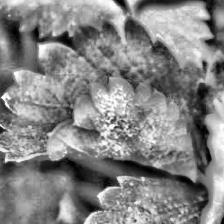Powdery Mildew Leaf: (0, 15, 206, 185), (71, 96, 224, 224), (192, 0, 224, 187)
